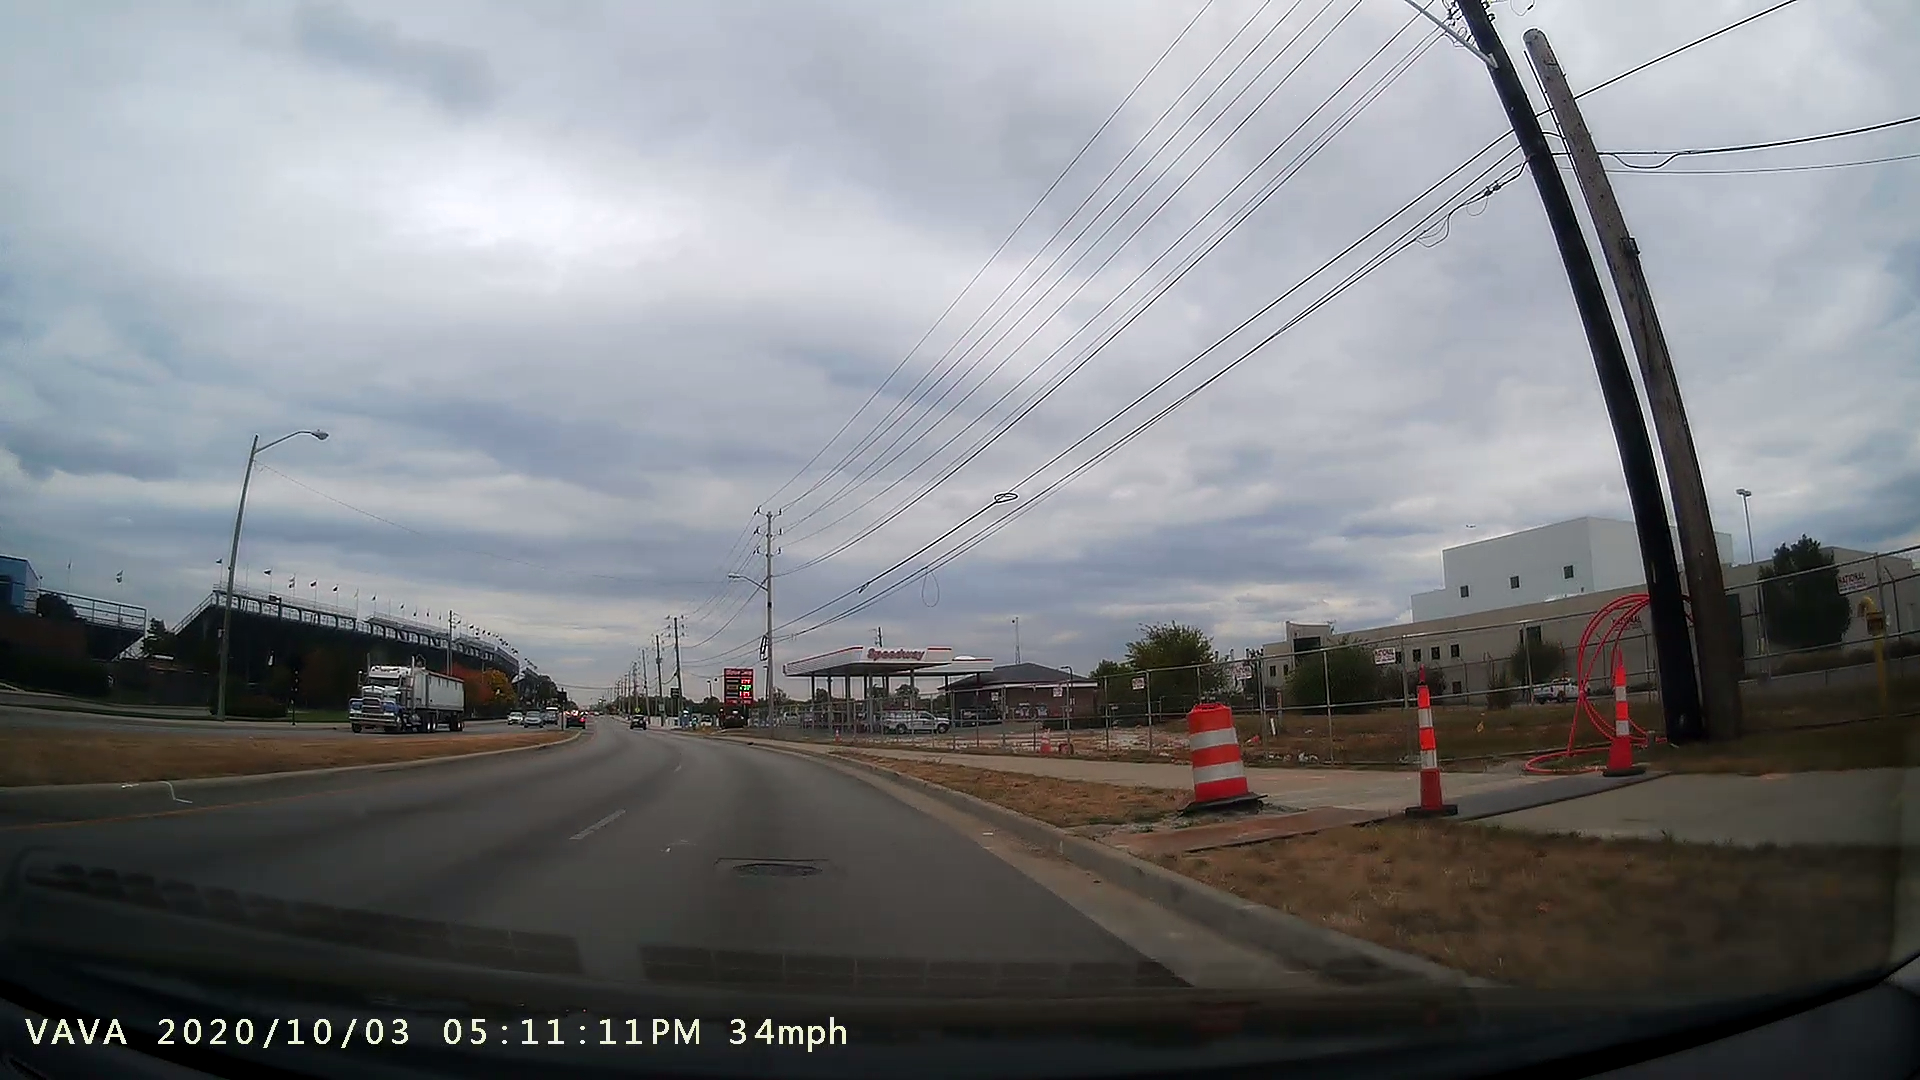const_barrel: (1164, 686, 1273, 823)
const_looper_cone: (1398, 647, 1472, 829), (1592, 634, 1647, 785)
